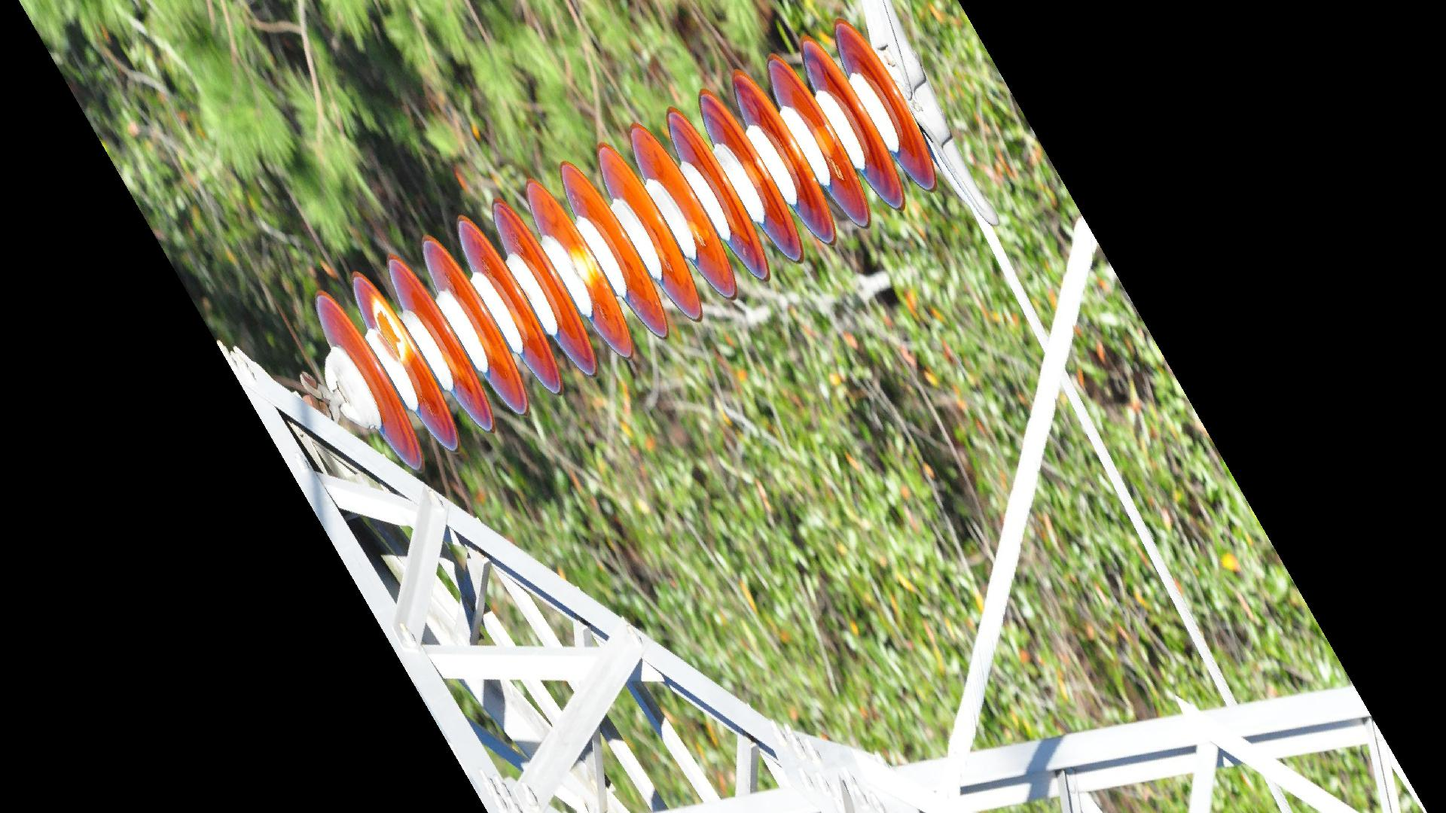insulator: (309, 16, 944, 477)
insulator_flashover: (370, 292, 412, 362), (811, 122, 839, 159)
